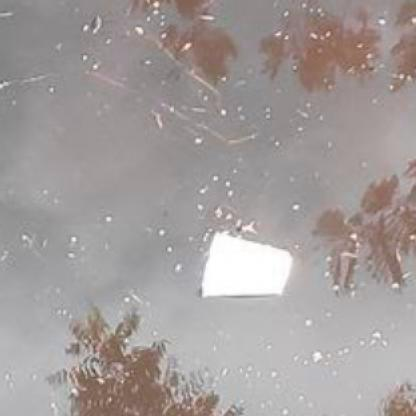Trash: (194, 225, 296, 307)
